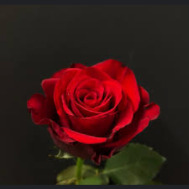RedRose: (20, 55, 172, 168)
